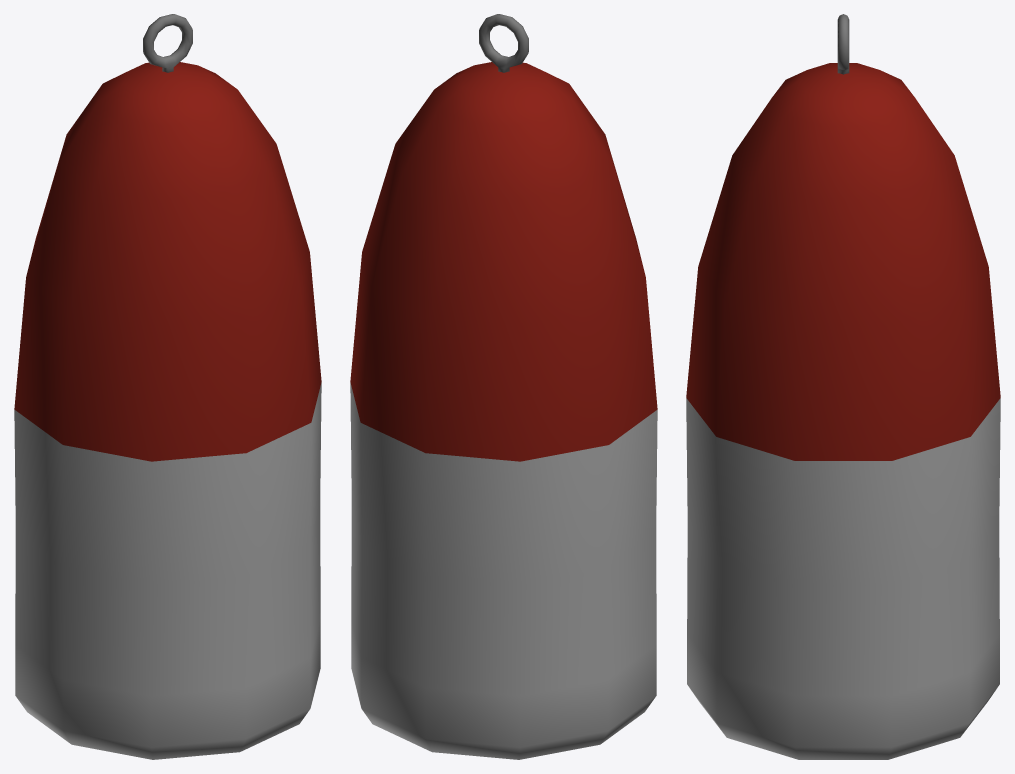
Rendered from buoy.lod0.glb.
The picture shows the model from 3 angles, left to right: view 1: azimuth 30°, elevation 25°; view 2: azimuth 150°, elevation 25°; view 3: azimuth 270°, elevation 25°; orthographic projection.
Parts seen in each view (by area): view 1: Object_4; view 2: Object_4; view 3: Object_4.
Part boxes in pixels (x1,y1,x2,y2): Object_4: [14, 14, 321, 759]; Object_4: [350, 14, 657, 759]; Object_4: [686, 14, 1000, 759].
Size of the model in its own units: 0.6335 by 1.6 by 0.6661.
